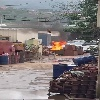fire: (49, 41, 67, 50)
